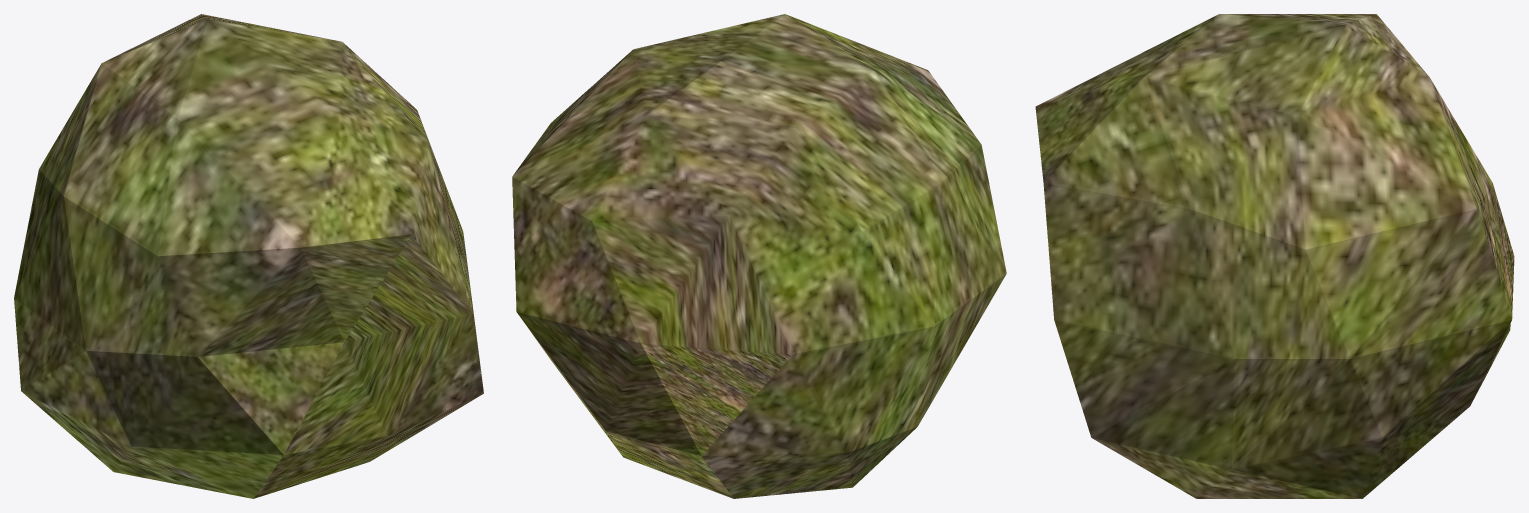
File: Bush1.glb
The picture shows the model from 3 angles, left to right: view 1: azimuth 30°, elevation 25°; view 2: azimuth 150°, elevation 25°; view 3: azimuth 270°, elevation 25°; orthographic projection. The views are drawn at different scales.
Visible parts, largest first — view 1: Icosphere; view 2: Icosphere; view 3: Icosphere.
Part boxes in pixels (bbox=[...]): Icosphere: bbox=[14, 14, 483, 498]; Icosphere: bbox=[512, 14, 1006, 498]; Icosphere: bbox=[1035, 14, 1514, 498].
Size of the model in its own units: 4.76 by 5 by 4.7.
Materials: 1 (1 with a texture image).
